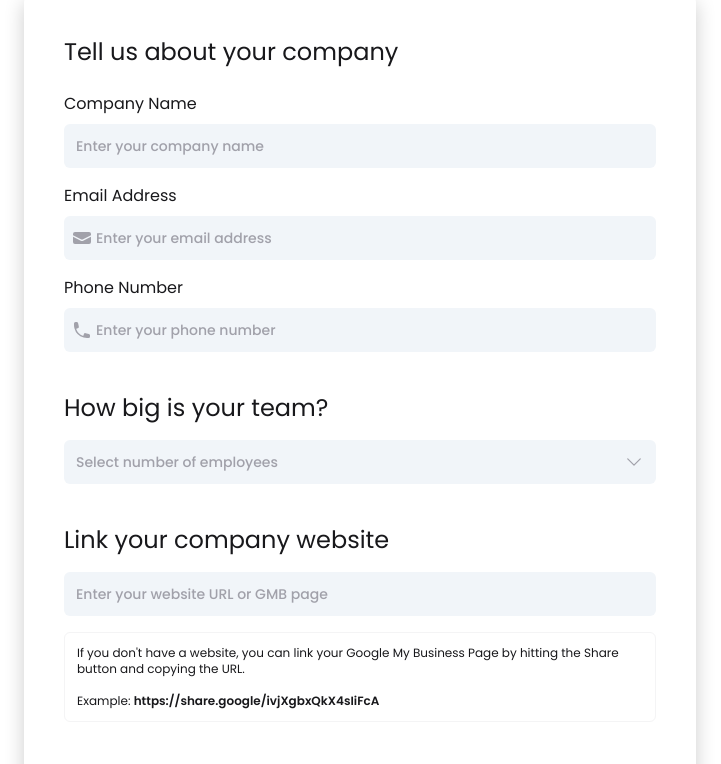
Test: MoverSignUpForm › Form Validation › validates email format
In the field with placeholder "Enter your email address": (360, 238) left=64, top=216, right=656, bottom=260, type "invalid-email"
(page scrolled)
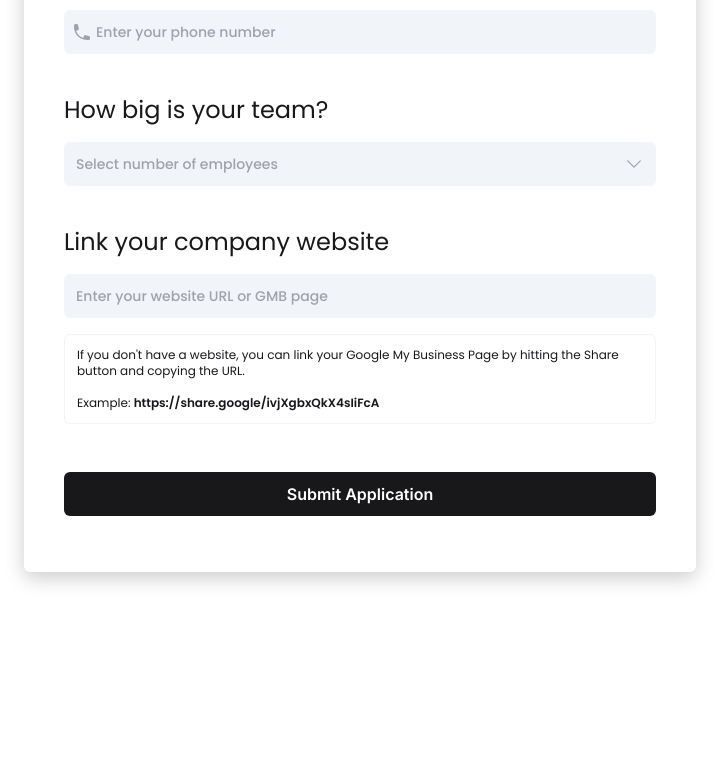
Click the button "Submit Application": (360, 494) left=64, top=472, right=656, bottom=516
(page scrolled)
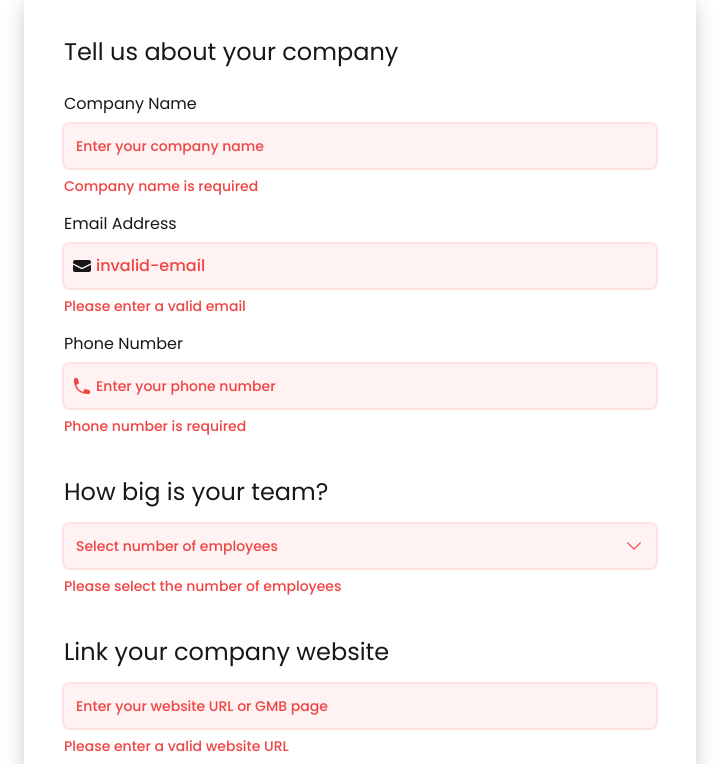
Now the text "Please enter a valid email" is shown, box left=64, top=296, right=246, bottom=316
